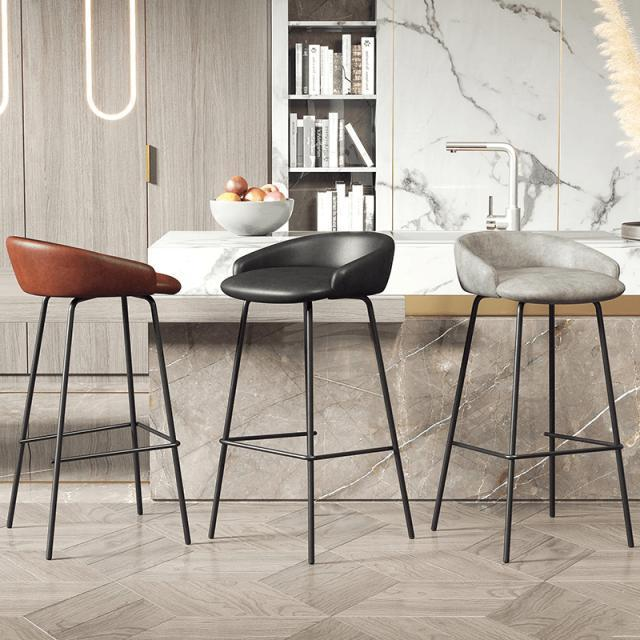chair: (205, 226, 418, 568), (426, 227, 640, 566), (2, 225, 200, 564)
